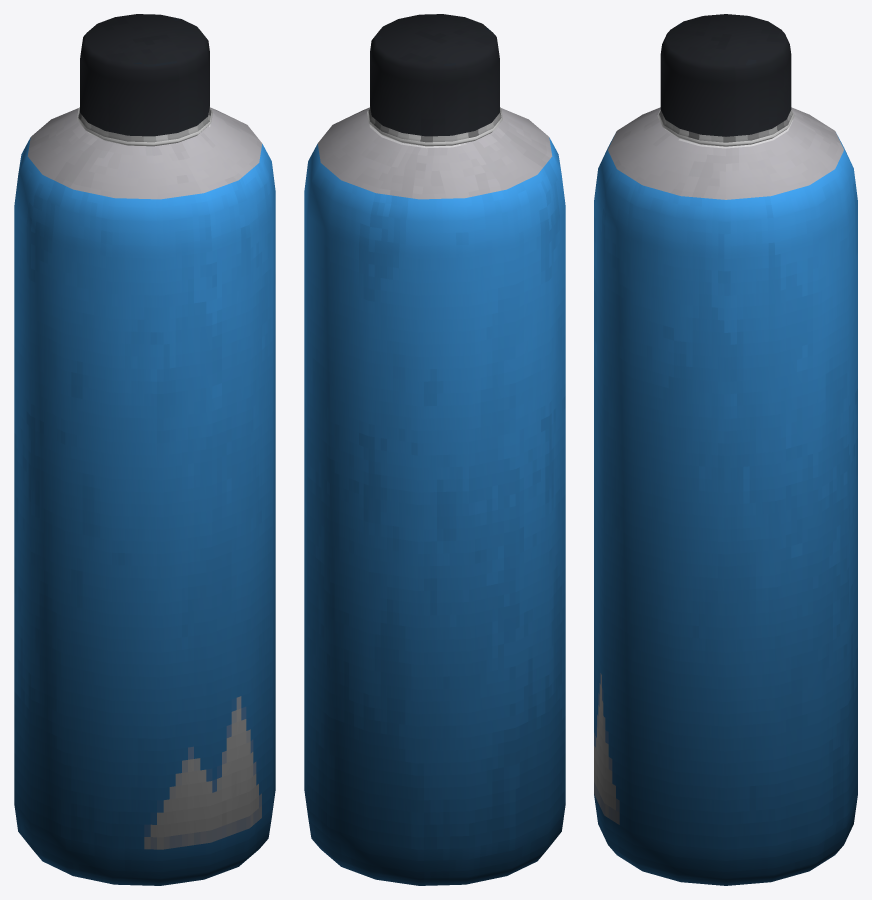
Rendered from ThermalBottle.glb.
3 renders of one model, left to right at view 1: azimuth 30°, elevation 25°; view 2: azimuth 150°, elevation 25°; view 3: azimuth 270°, elevation 25°, orthographic.
Parts seen in each view (by area): view 1: ThermalBottle.001; view 2: ThermalBottle.001; view 3: ThermalBottle.001.
Boxes of the visible parts, x1,y1,x2,y2 form: ThermalBottle.001: (14,14,275,885); ThermalBottle.001: (304,14,565,885); ThermalBottle.001: (594,14,857,885).
Size of the model in its own units: 0.06 by 0.2 by 0.06.
Materials: 1 (1 with a texture image).
